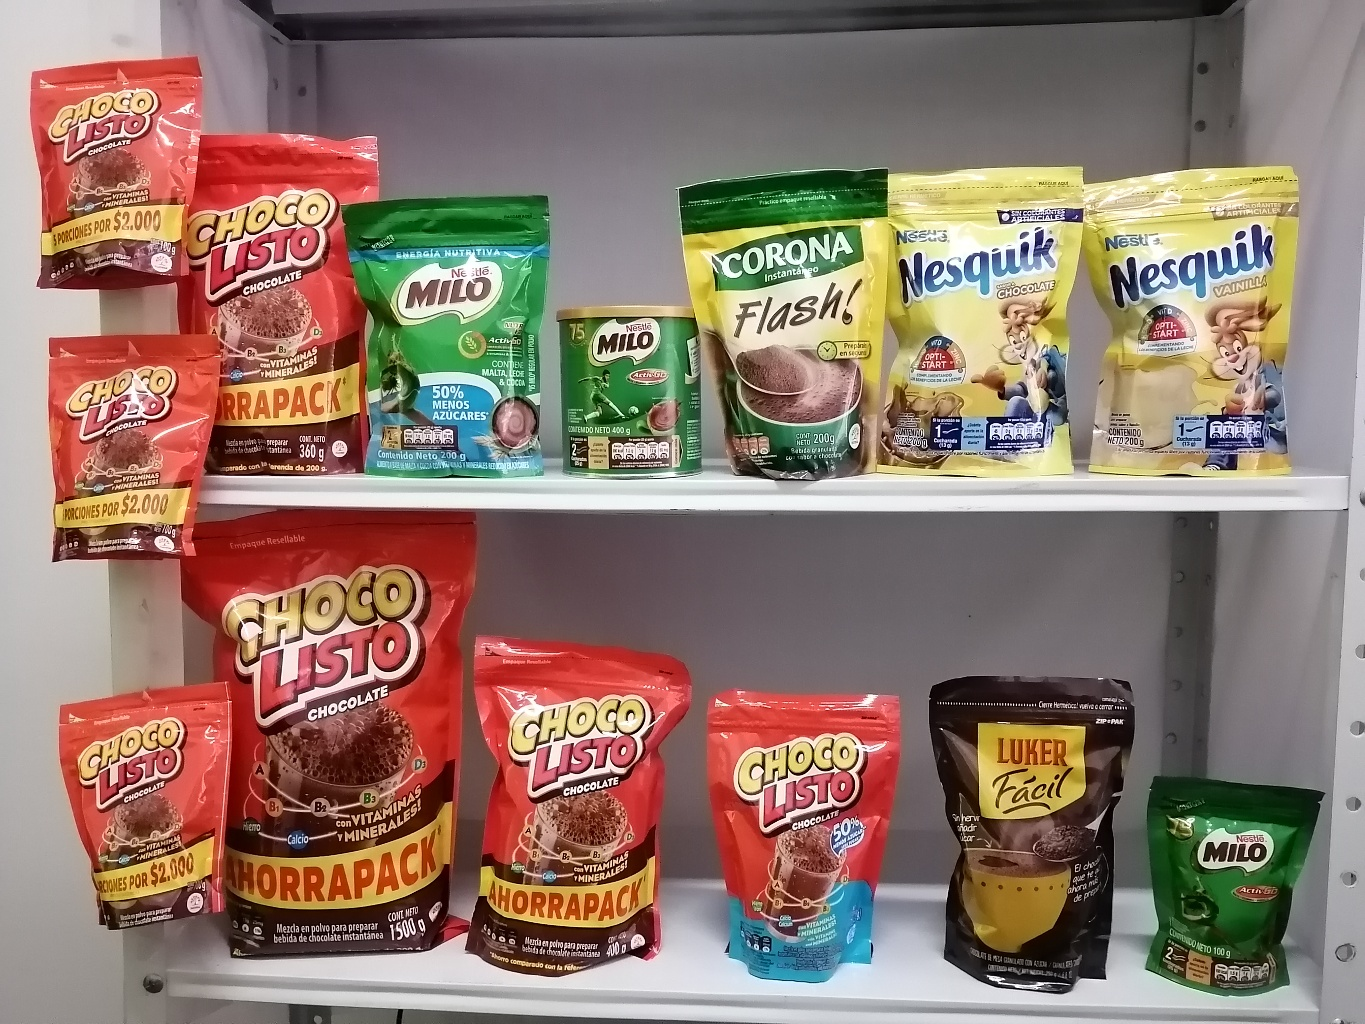COL0170103DYP1,500: (162, 492, 503, 975)
COL0170103DYP10000: (19, 45, 211, 298)
COL0170103DYP36000: (160, 115, 394, 478)
COL0170103DYP40000: (451, 621, 713, 1001)
COL0170104DYP20000: (699, 681, 915, 997)
COL0170203DYP10000: (1137, 767, 1328, 996)
COL0170203LAT40000: (549, 296, 713, 487)
COL0170205DYP20000: (349, 183, 559, 479)
COL0170303DYP20000: (875, 153, 1106, 480)
COL0170306DYP20000: (1073, 147, 1306, 474)
